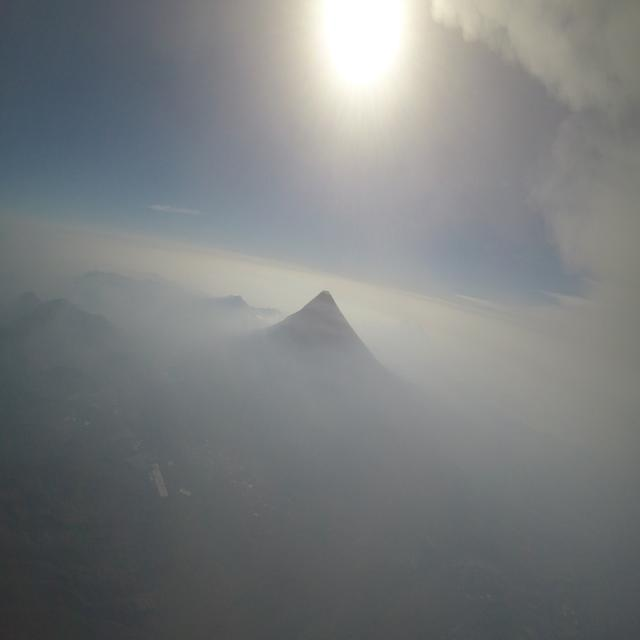Plume: (429, 0, 640, 343)
